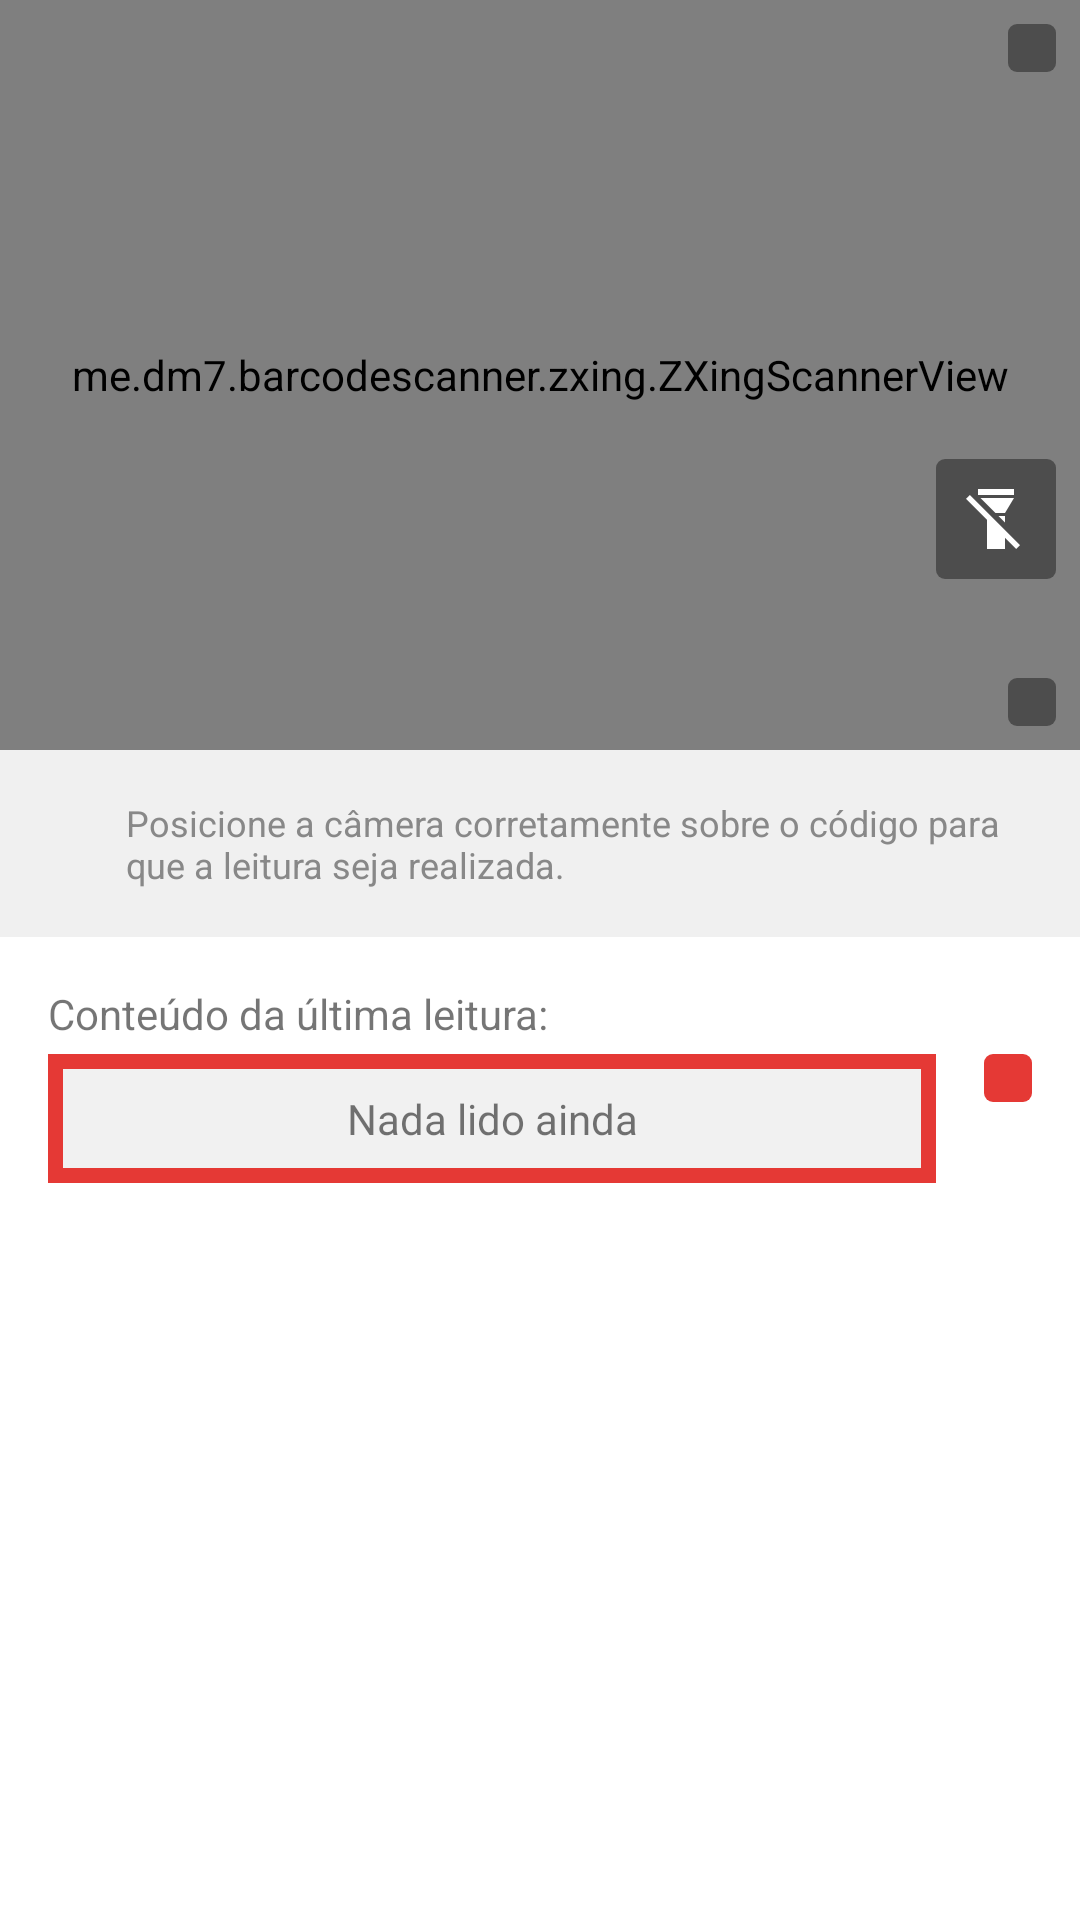

Point at icon controls on the screen. Image size 1080×1920, points as point (x, y).
Ligar flash: point (996, 519)
